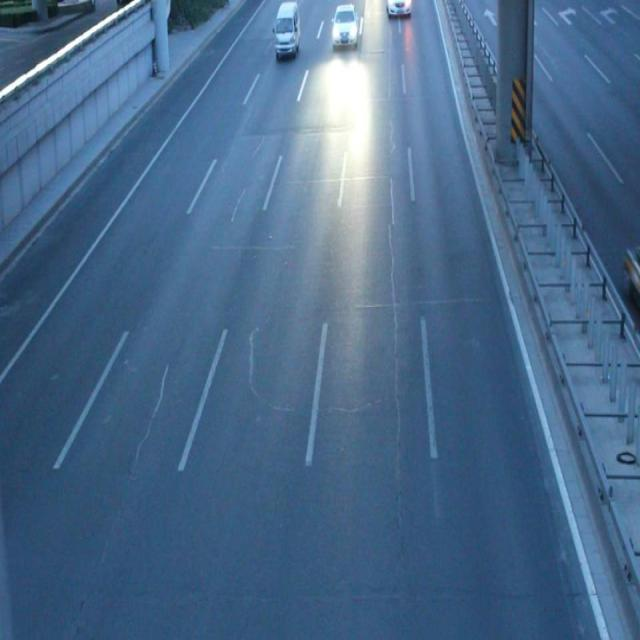car: (273, 1, 299, 58), (331, 1, 356, 46)
